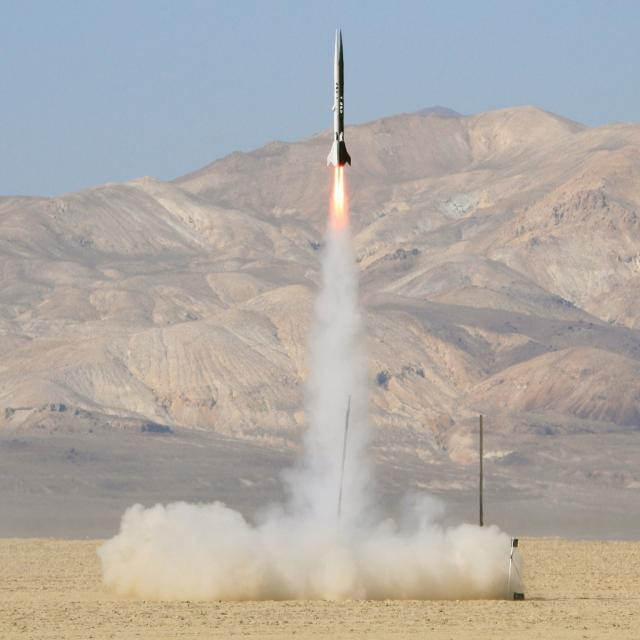rocket: (327, 33, 360, 243)
